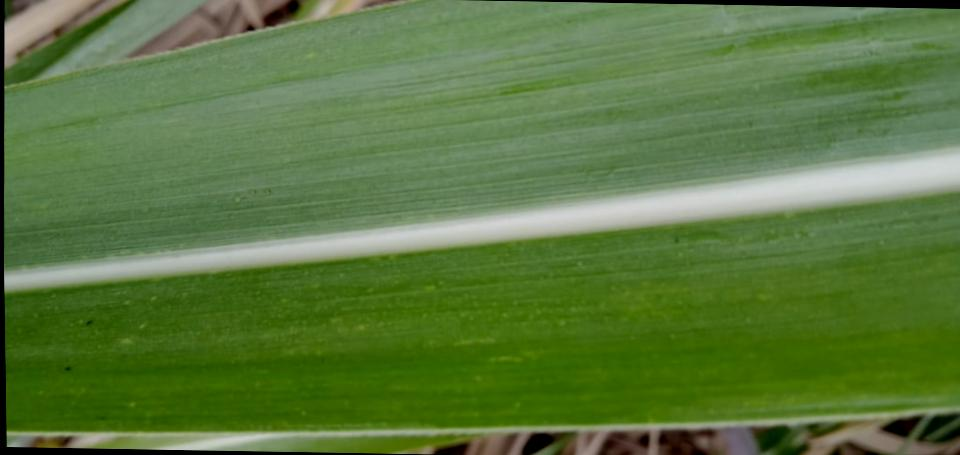Healthy: (4, 0, 960, 433)
